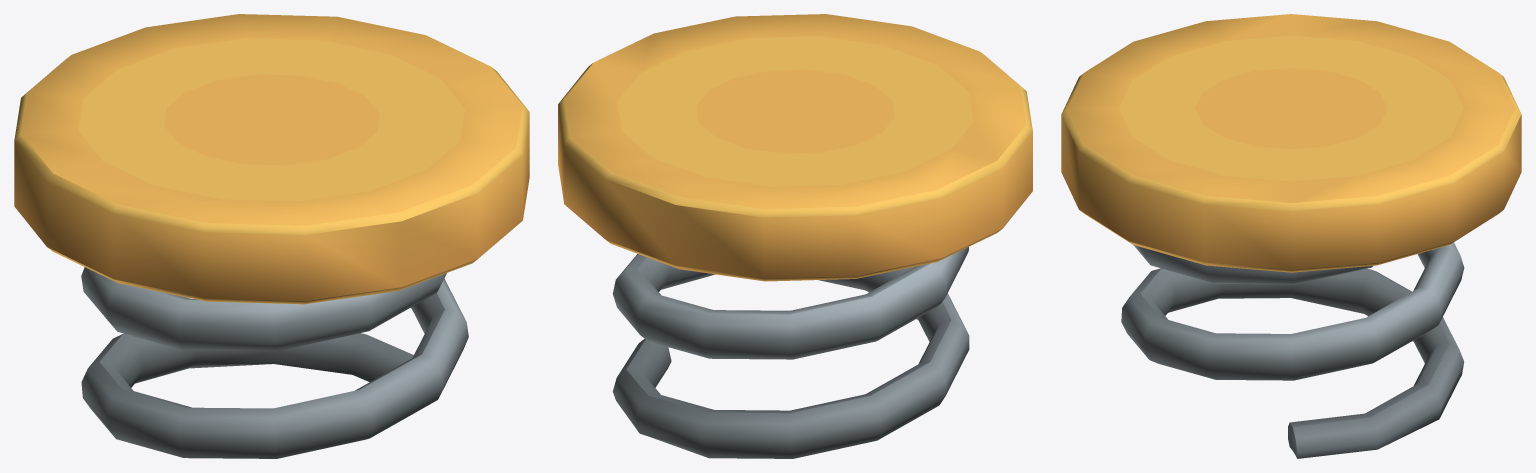
The model's file is spring_pad_yellow.glb.
3 renders of one model, left to right at view 1: azimuth 30°, elevation 25°; view 2: azimuth 150°, elevation 25°; view 3: azimuth 270°, elevation 25°, orthographic. The views are drawn at different scales.
Parts seen in each view (by area): view 1: spring_pad_yellow; view 2: spring_pad_yellow; view 3: spring_pad_yellow.
Boxes of the visible parts, x1,y1,x2,y2 form: spring_pad_yellow: (14,14,529,458); spring_pad_yellow: (558,14,1032,458); spring_pad_yellow: (1061,14,1521,458).
Size of the model in its own units: 1.5 by 1 by 1.5.
Materials: 1 (1 with a texture image).
